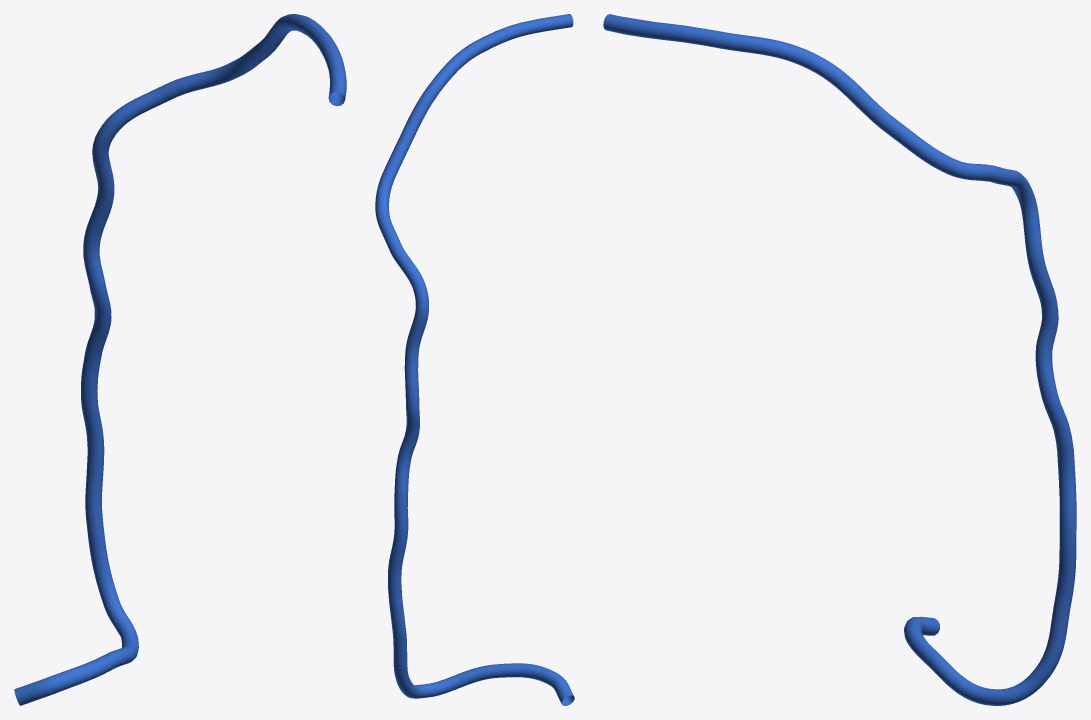
The model's file is circulatorio-accessory-hemi-azygos-vein.glb.
3 views of the same model, side by side, from view 1: azimuth 30°, elevation 25°; view 2: azimuth 150°, elevation 25°; view 3: azimuth 270°, elevation 25° (orthographic). The views are drawn at different scales.
Parts seen in each view (by area): view 1: Accessory hemi-azygos vein; view 2: Accessory hemi-azygos vein; view 3: Accessory hemi-azygos vein.
Boxes of the visible parts, bbox=[...] form: Accessory hemi-azygos vein: bbox=[14, 14, 346, 705]; Accessory hemi-azygos vein: bbox=[375, 14, 574, 705]; Accessory hemi-azygos vein: bbox=[603, 14, 1076, 705].
Bounding box in the file's own units: 0.0458 × 0.1289 × 0.0785.
